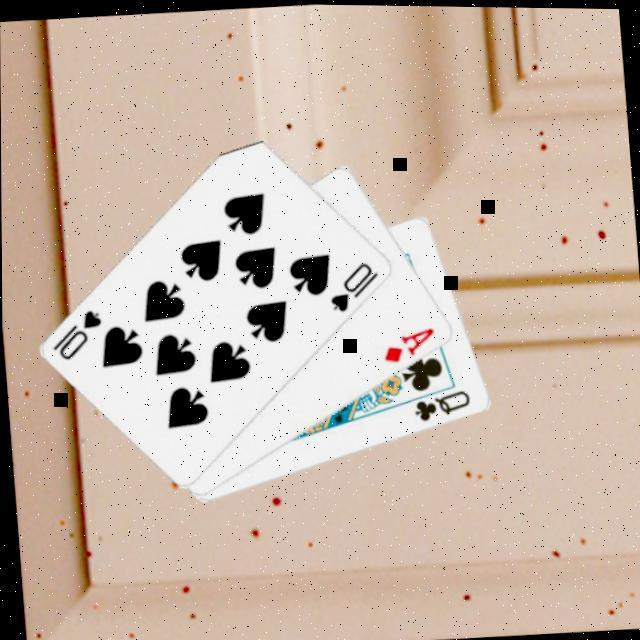10S: (45, 306, 107, 366), (322, 257, 382, 317)
AD: (377, 322, 438, 368)
QC: (408, 386, 474, 426)
